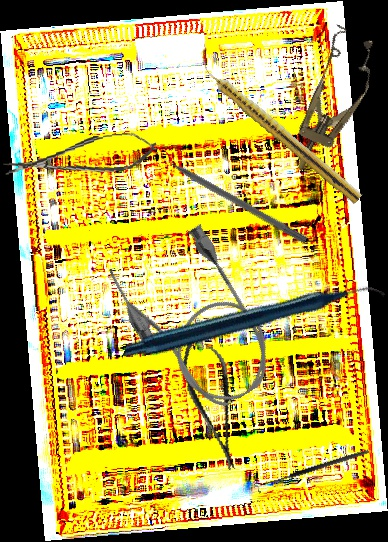Cannula: (100, 215, 290, 427)
Handpiece: (122, 210, 386, 438), (195, 58, 366, 205)
Hook Surgical: (256, 448, 371, 495)
Micro Scissor: (172, 325, 252, 476), (1, 130, 159, 183)
Pusher: (151, 147, 309, 245)
Speculum: (274, 24, 388, 181)
